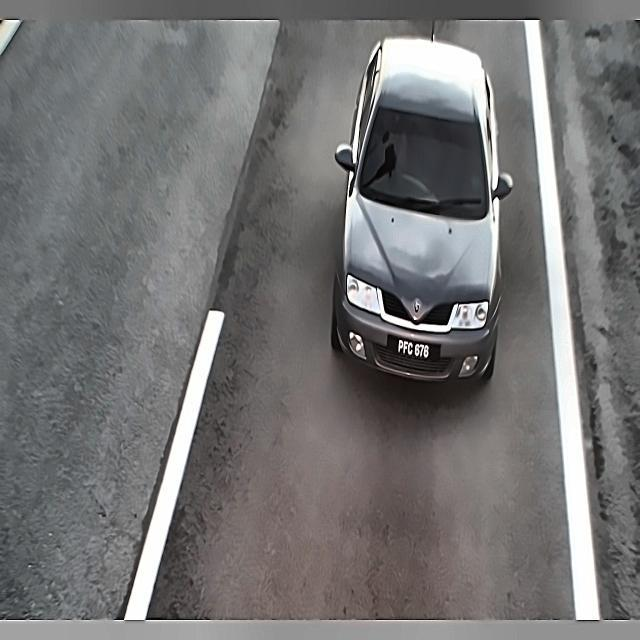car: (387, 328, 439, 368)
